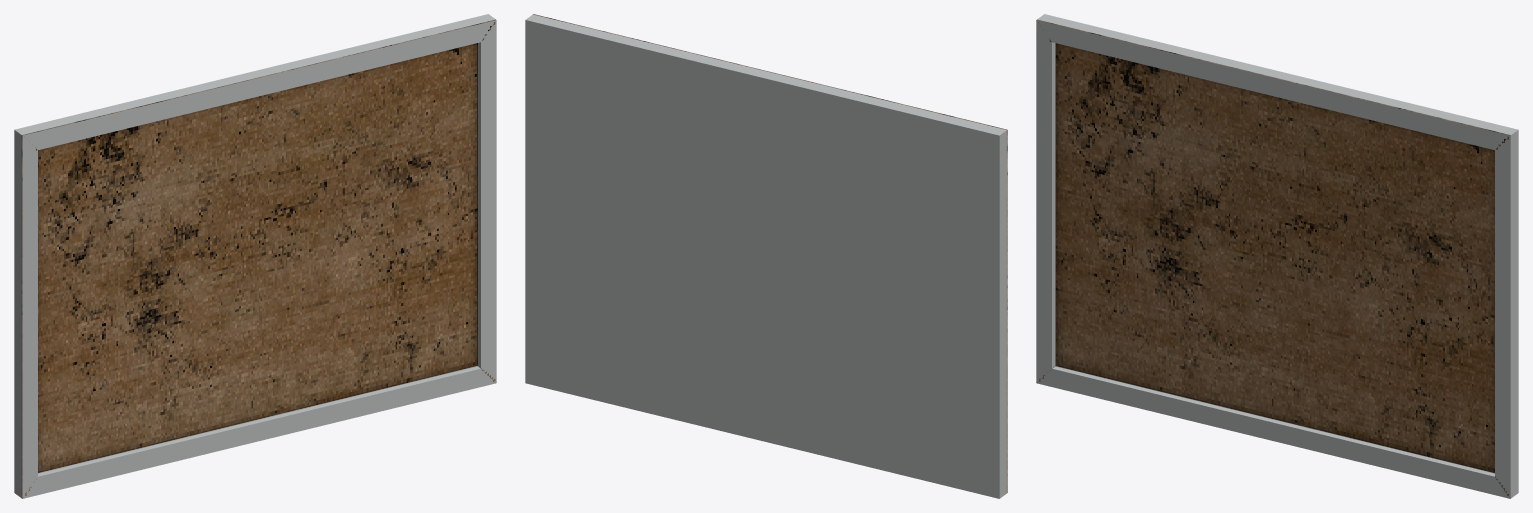
Rendered from Cork Board.glb.
3 renders of one model, left to right at view 1: azimuth 30°, elevation 25°; view 2: azimuth 150°, elevation 25°; view 3: azimuth 330°, elevation 25°, orthographic.
Parts seen in each view (by area): view 1: pCube1; view 2: pCube1; view 3: pCube1.
Boxes of the visible parts, x1,y1,x2,y2 form: pCube1: [14, 14, 496, 498]; pCube1: [525, 14, 1007, 498]; pCube1: [1036, 14, 1518, 498].
Size of the model in its own units: 2.26 by 1.66 by 0.0672.
Materials: 1 (1 with a texture image).
